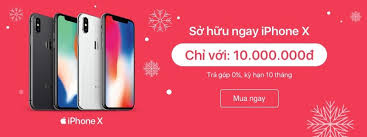iphone: (106, 10, 139, 114)
iphone10: (101, 12, 136, 113)
